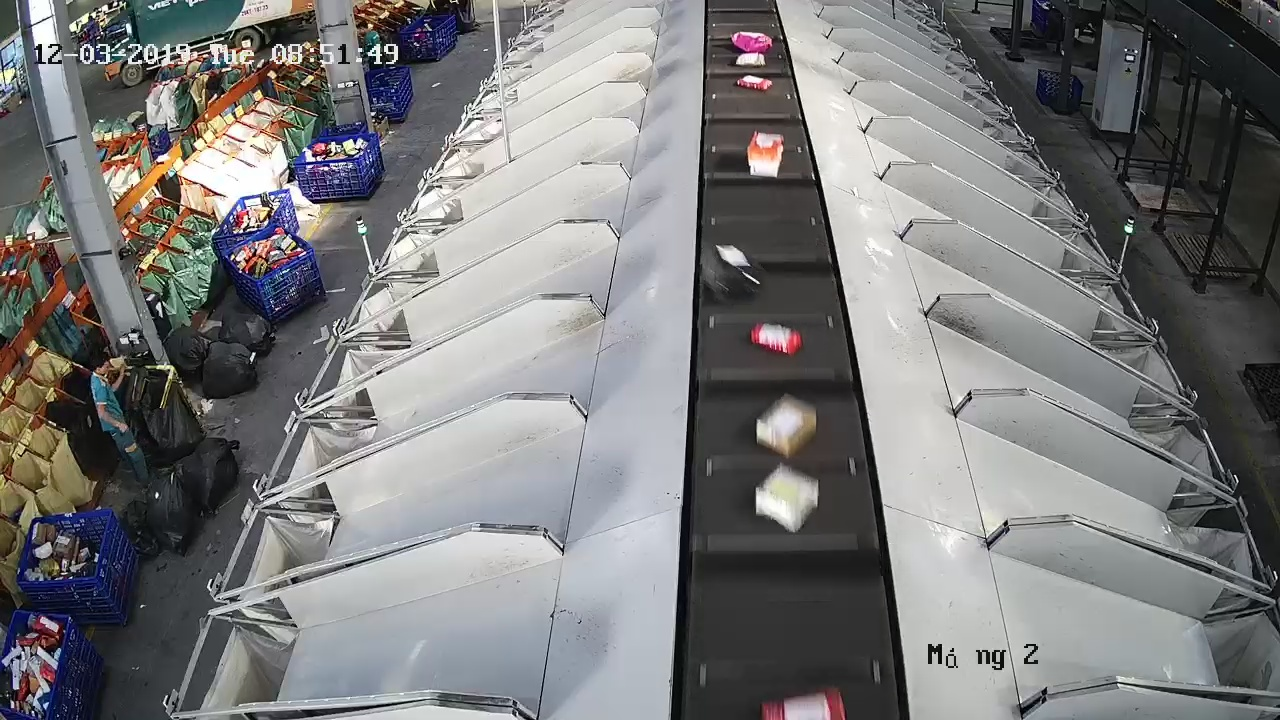parcel: (754, 463, 821, 534), (754, 391, 819, 461), (700, 242, 767, 306), (749, 319, 804, 357), (745, 129, 786, 179)
